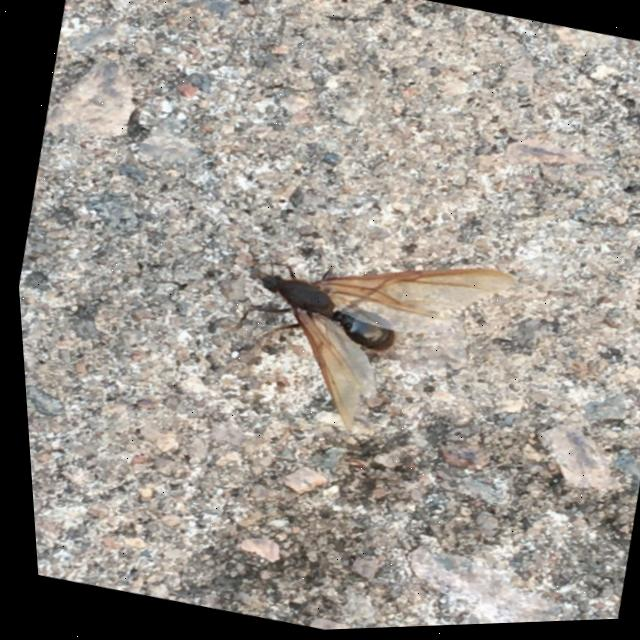Alive-Male-Alate: (177, 211, 522, 471)
